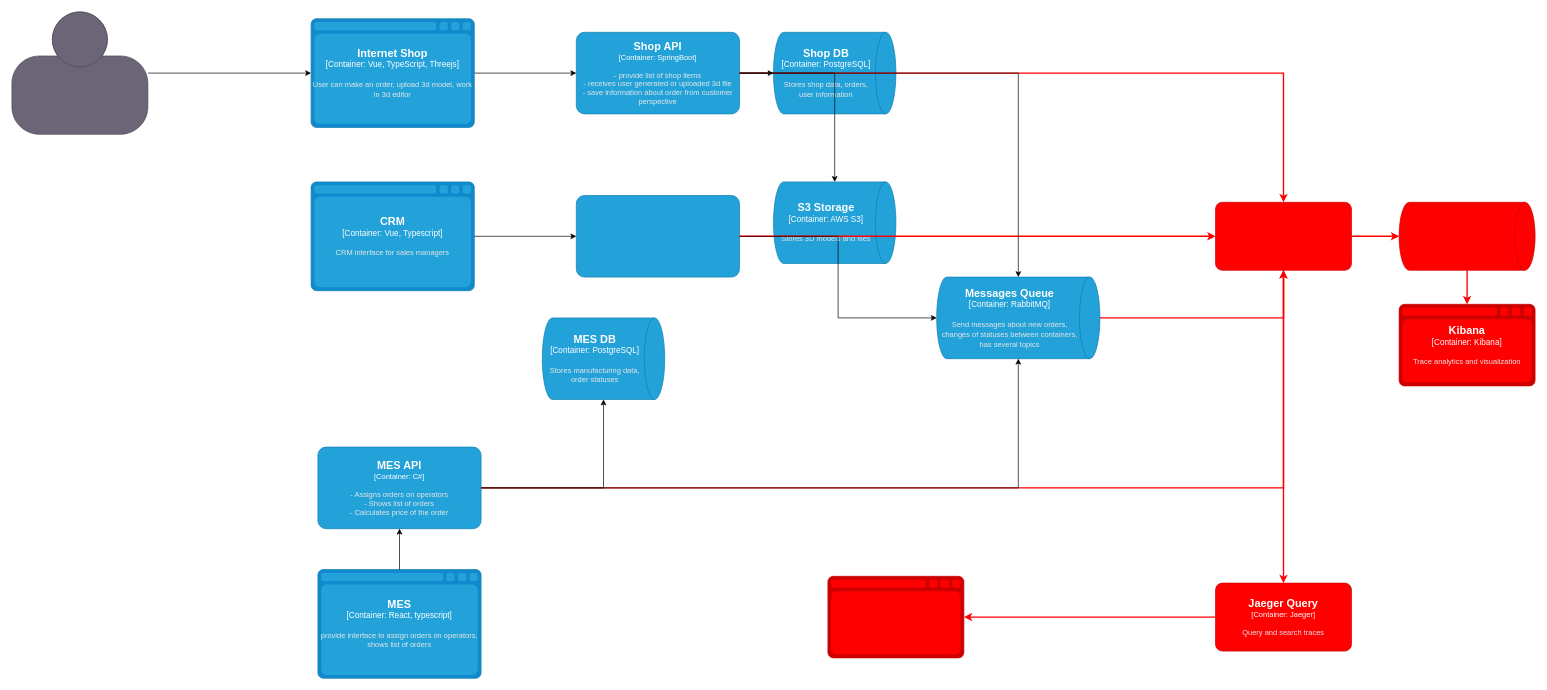
Some shapes in this 1547 by 690 pixel diagram are drawn without their labels. Here are the shapes that lost their labels. From the top down, the centre of each, then its label:
(x=79, y=72): Customer [Person] Makes orders, uploads 3D models
(x=658, y=236): CRM API [Container: SpringBoot] CRM backend API
(x=1283, y=236): Jaeger Collector [Container: Jaeger] Collects traces from all services
(x=1466, y=236): Elasticsearch [Container: Elasticsearch] Stores trace data
(x=895, y=617): Jaeger UI [Container: Jaeger] Web interface for trace visualization
